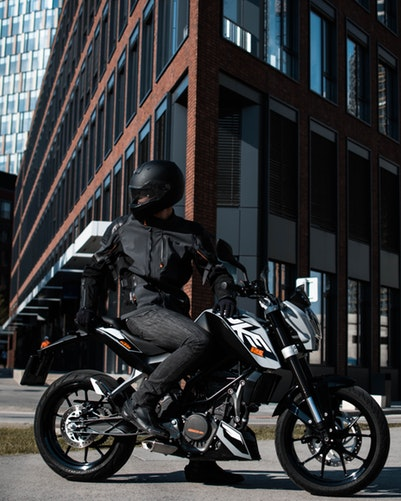helmet: (124, 159, 183, 214)
